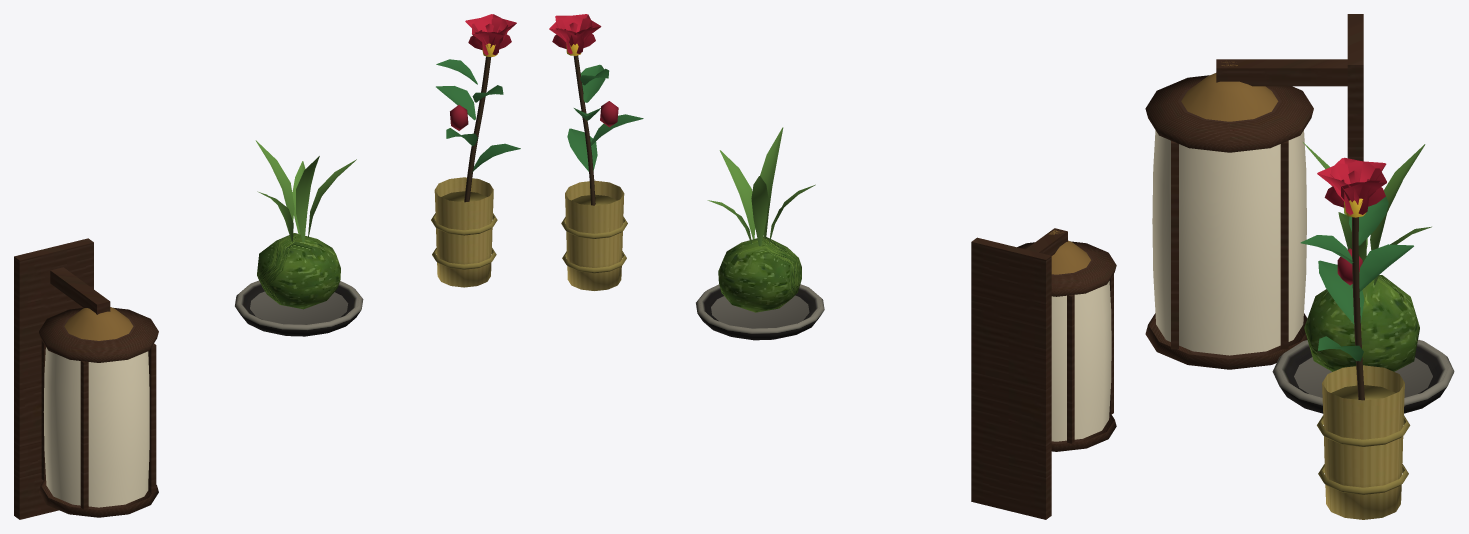
File: wcdecor.glb
The picture shows the model from 3 angles, left to right: view 1: azimuth 30°, elevation 25°; view 2: azimuth 150°, elevation 25°; view 3: azimuth 270°, elevation 25°; orthographic projection. The views are drawn at different scales.
Visible parts, largest first — view 1: WcLantern, WcLanternPaper, Kokedama, Camellia; view 2: WcLantern, Kokedama, Camellia, WcLanternPaper; view 3: WcLanternPaper, WcLantern, Camellia, Kokedama.
Part boxes in pixels (x1,y1,x2,y2): WcLantern: (14, 238, 158, 519); WcLanternPaper: (43, 347, 149, 507); Kokedama: (235, 140, 363, 336); Camellia: (431, 14, 520, 287); WcLantern: (971, 228, 1116, 519); Kokedama: (696, 127, 824, 340); Camellia: (549, 14, 643, 290); WcLanternPaper: (1051, 281, 1111, 441); WcLanternPaper: (1152, 130, 1306, 355); WcLantern: (1145, 14, 1363, 369); Camellia: (1300, 157, 1413, 519); Kokedama: (1272, 142, 1454, 413).
Size of the model in its own units: 0.6185 by 0.4372 by 0.231.
13 materials, 4 textured.
